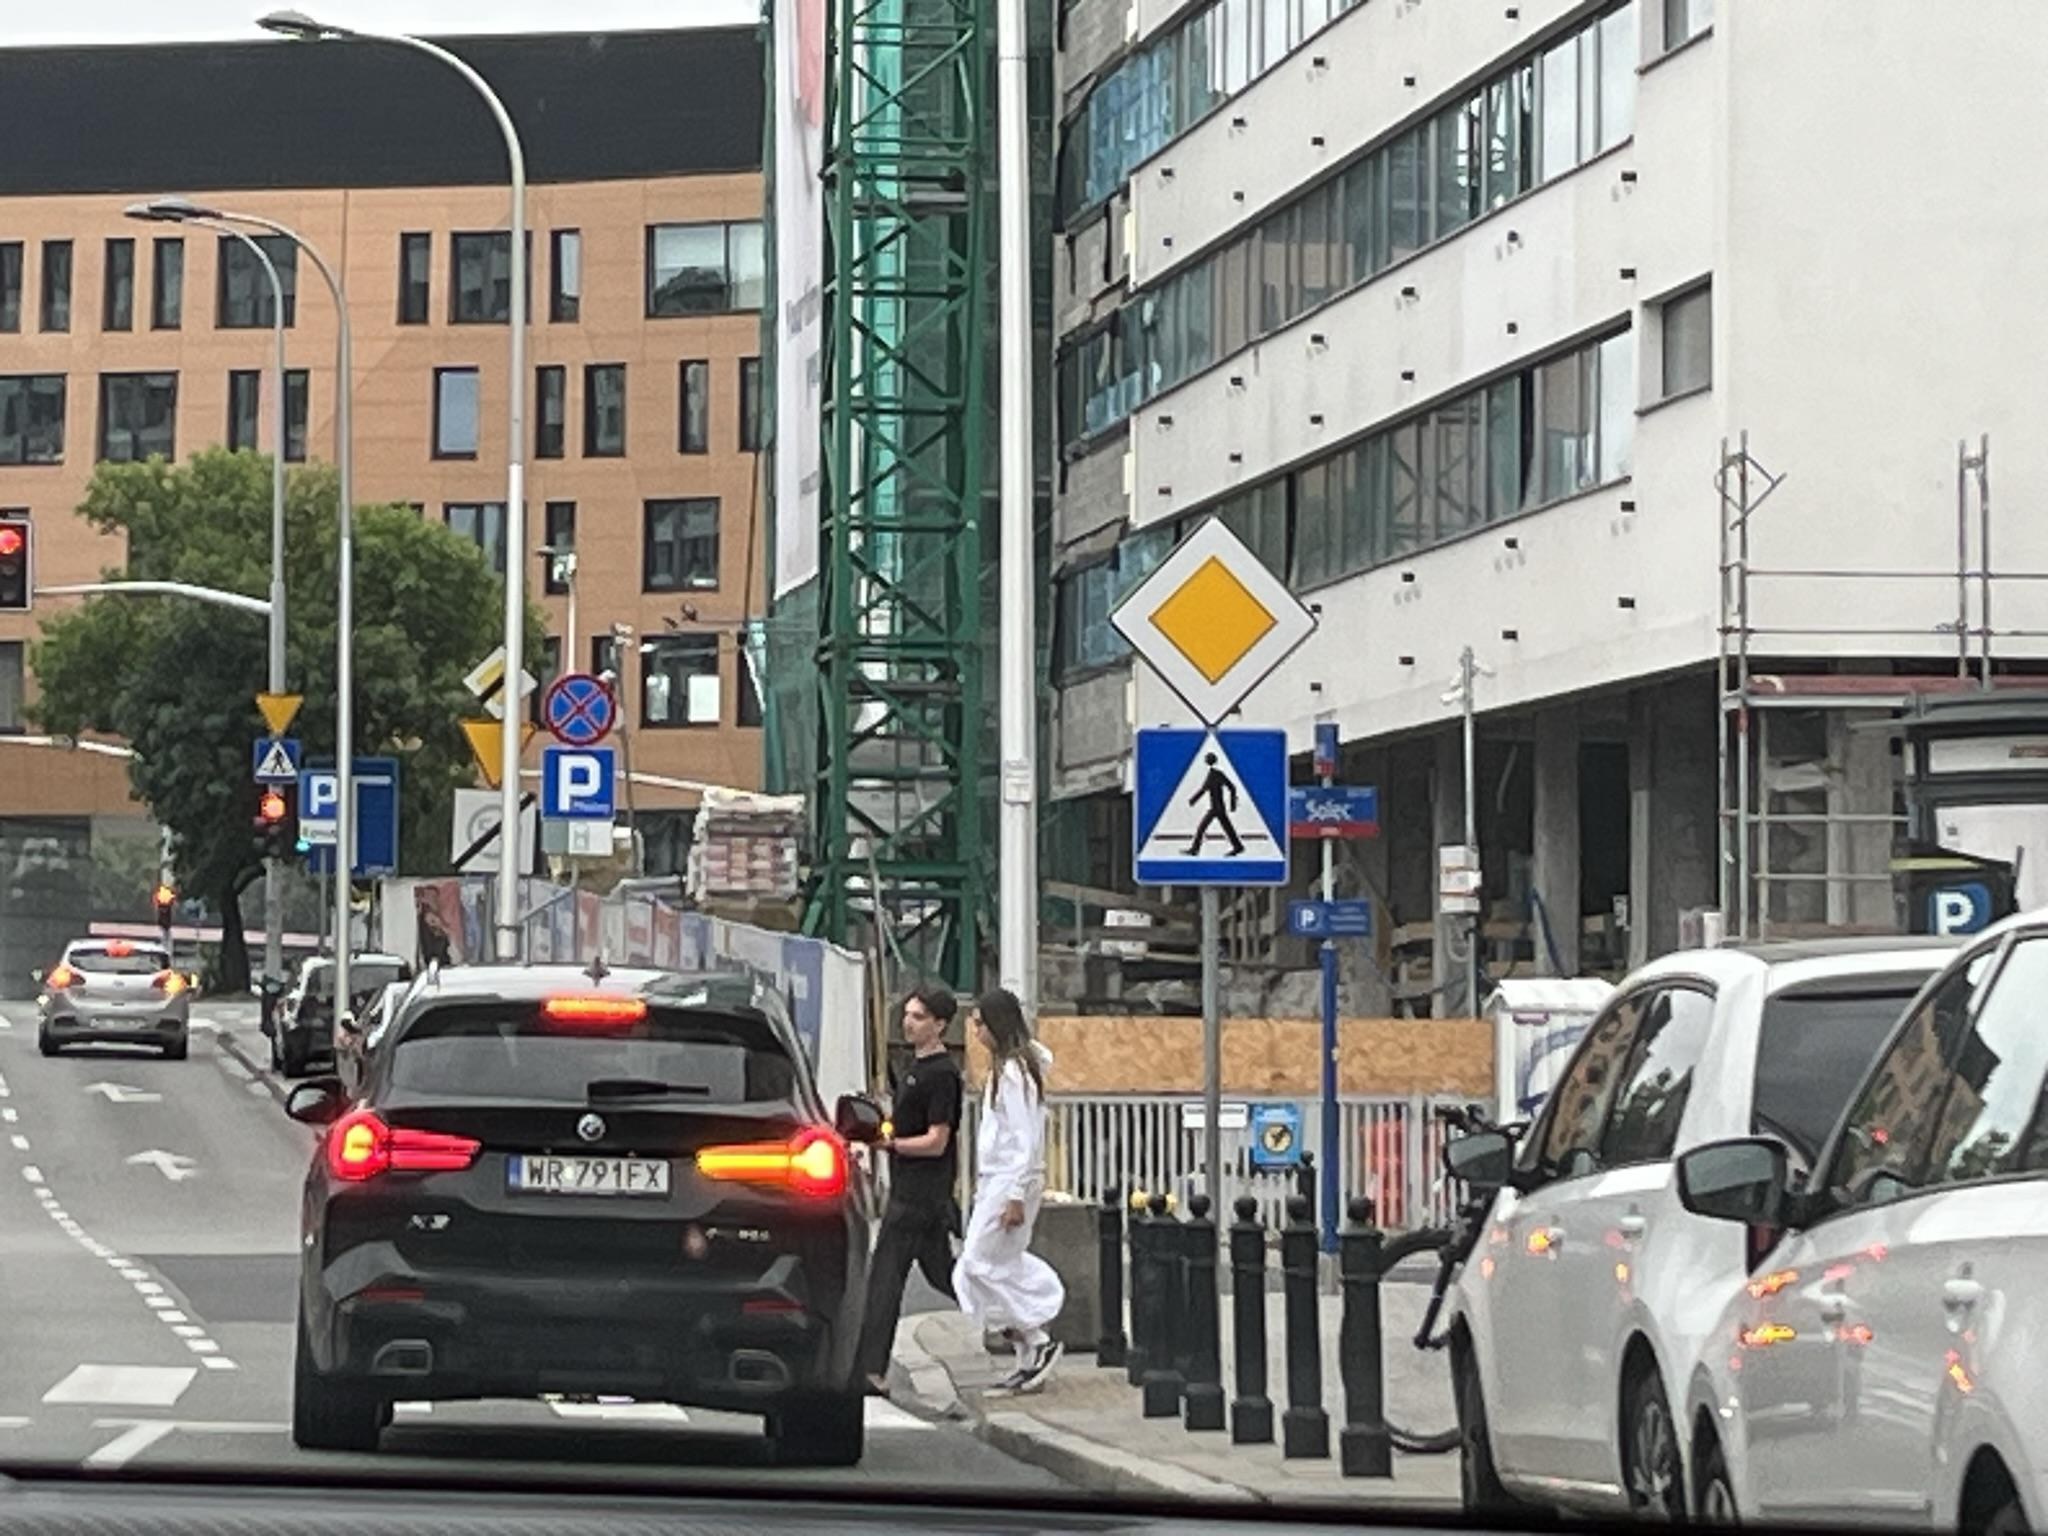information: (1108, 511, 1319, 729), (1132, 726, 1292, 887), (463, 644, 539, 718), (542, 745, 614, 820), (255, 737, 303, 784), (298, 770, 340, 821)
other: (348, 755, 402, 876)
prohibitory: (452, 789, 539, 878), (543, 671, 618, 747)
warning: (460, 716, 535, 789), (253, 692, 306, 741)
